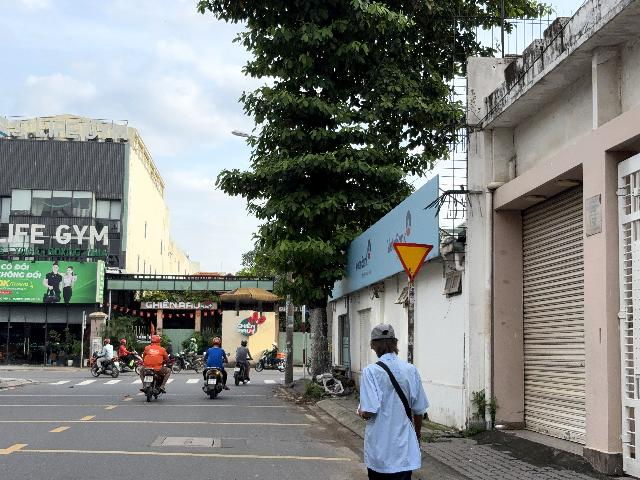giao-nhau-voi-duong-uu-tien: (392, 243, 435, 282)
